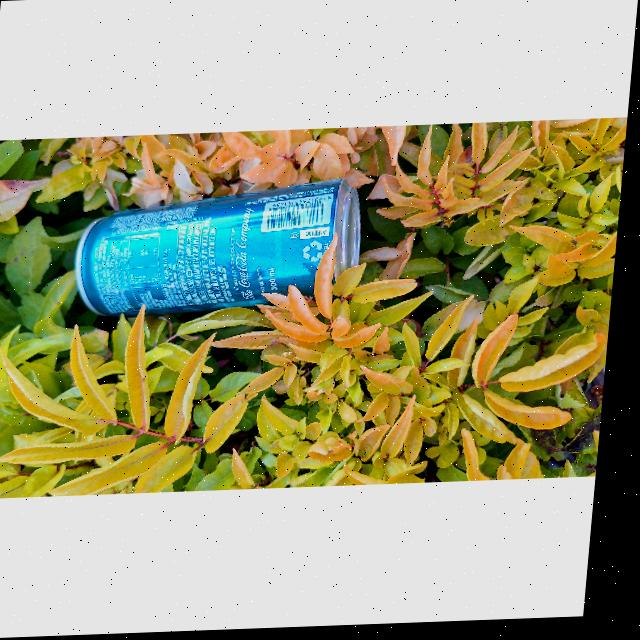Thums Up: (73, 183, 365, 325)
